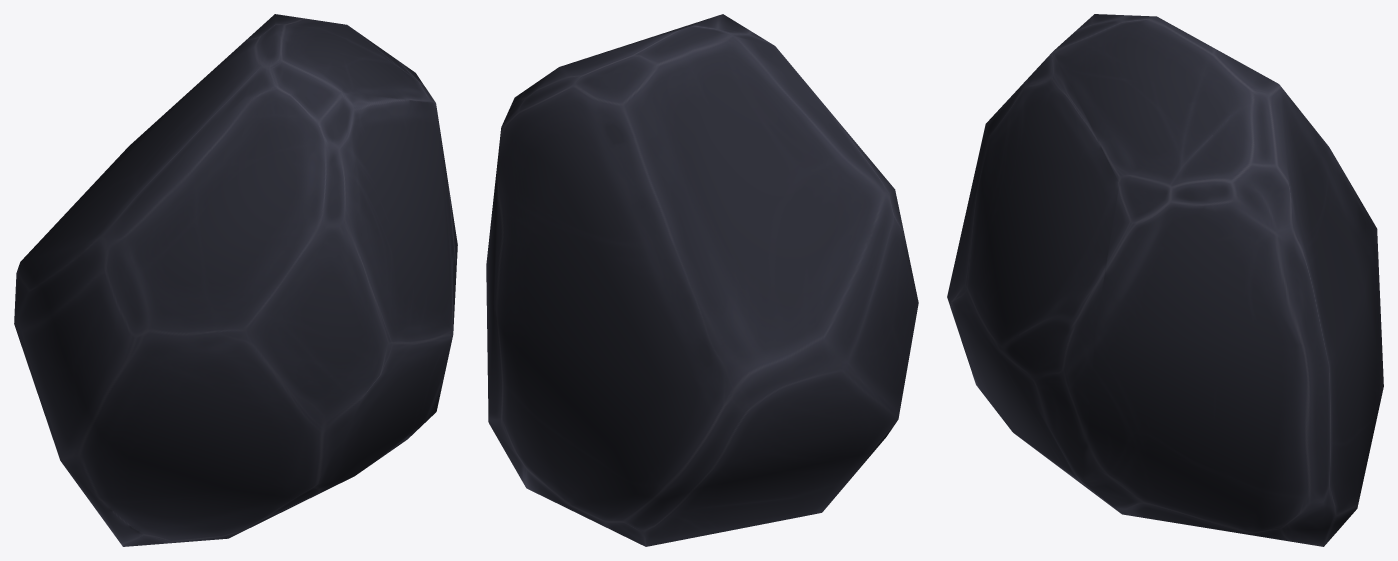
The model's file is Stone_4_Variation_3.fbx.
3 views of the same model, side by side, from view 1: azimuth 30°, elevation 25°; view 2: azimuth 150°, elevation 25°; view 3: azimuth 270°, elevation 25° (orthographic). The views are drawn at different scales.
Parts seen in each view (by area): view 1: Stone_4_Variation_3; view 2: Stone_4_Variation_3; view 3: Stone_4_Variation_3.
Boxes of the visible parts, x1,y1,x2,y2 form: Stone_4_Variation_3: (14,14,457,546); Stone_4_Variation_3: (486,14,918,546); Stone_4_Variation_3: (947,14,1383,546).
Bounding box in the file's own units: 161 × 196 × 152.
